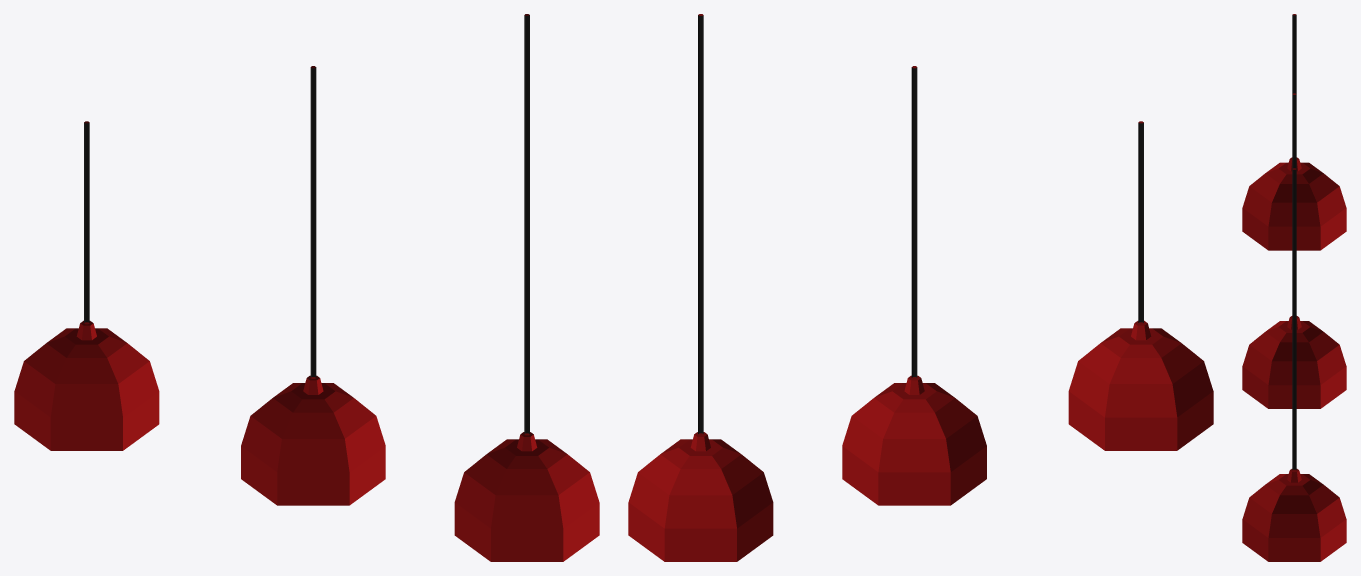
File: Hanging Light 1.fbx
3 renders of one model, left to right at view 1: azimuth 30°, elevation 25°; view 2: azimuth 150°, elevation 25°; view 3: azimuth 270°, elevation 25°, orthographic. The views are drawn at different scales.
Visible parts, largest first — view 1: Hanging Light 1; view 2: Hanging Light 1; view 3: Hanging Light 1.
Part boxes in pixels (<box>): Hanging Light 1: <box>14,14,599,561</box>; Hanging Light 1: <box>628,14,1213,561</box>; Hanging Light 1: <box>1242,14,1346,561</box>.
Bounding box in the file's own units: 0.3496 × 1.39 × 1.53.
